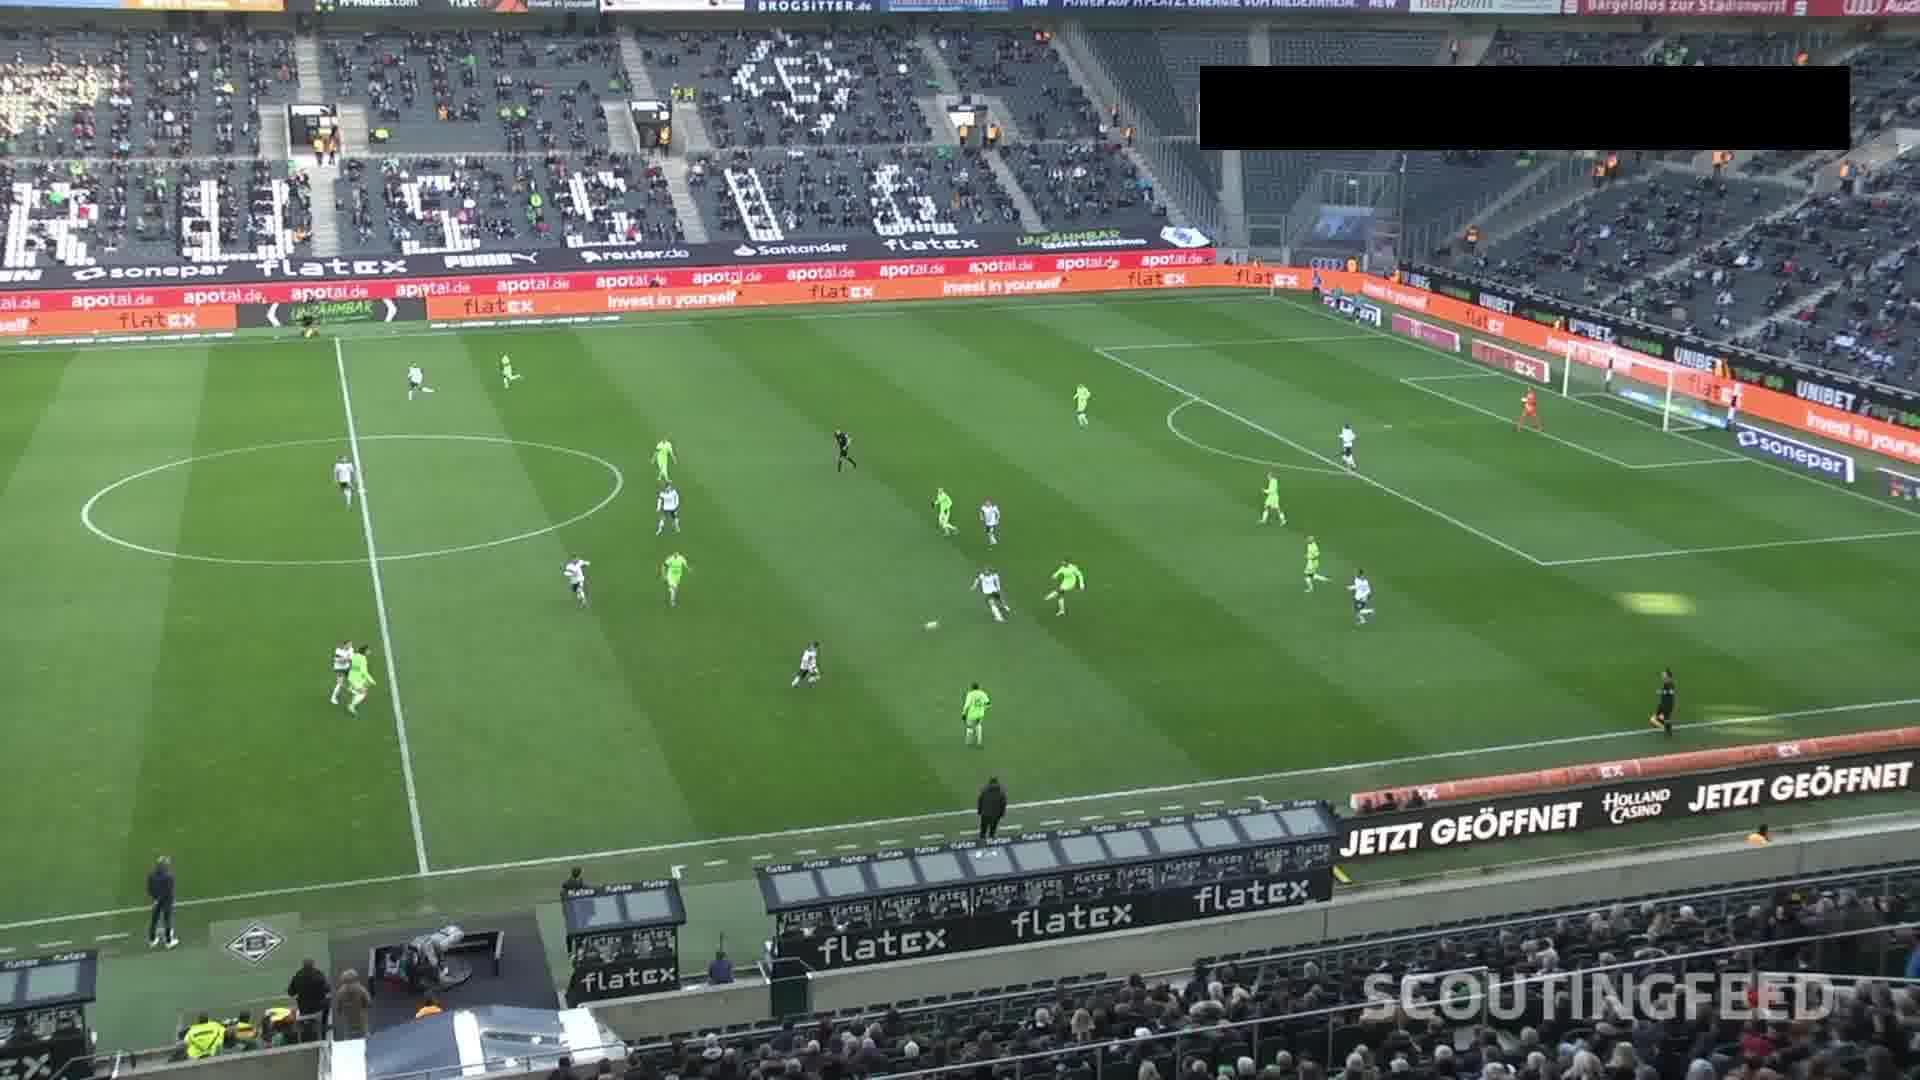football: (924, 619, 940, 631)
